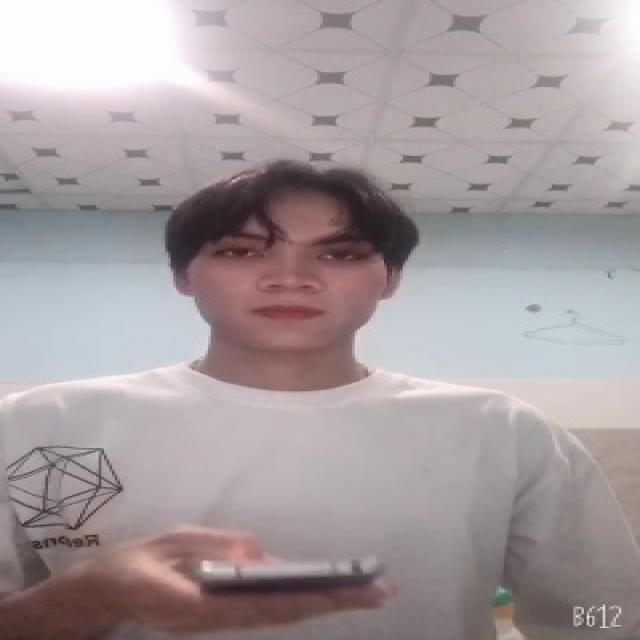Phone: (200, 552, 388, 594)
